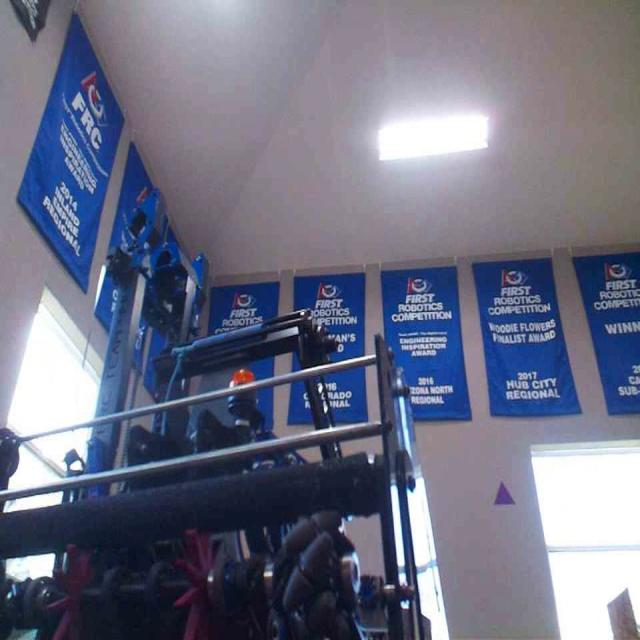triangle_purple: (492, 481, 515, 506)
